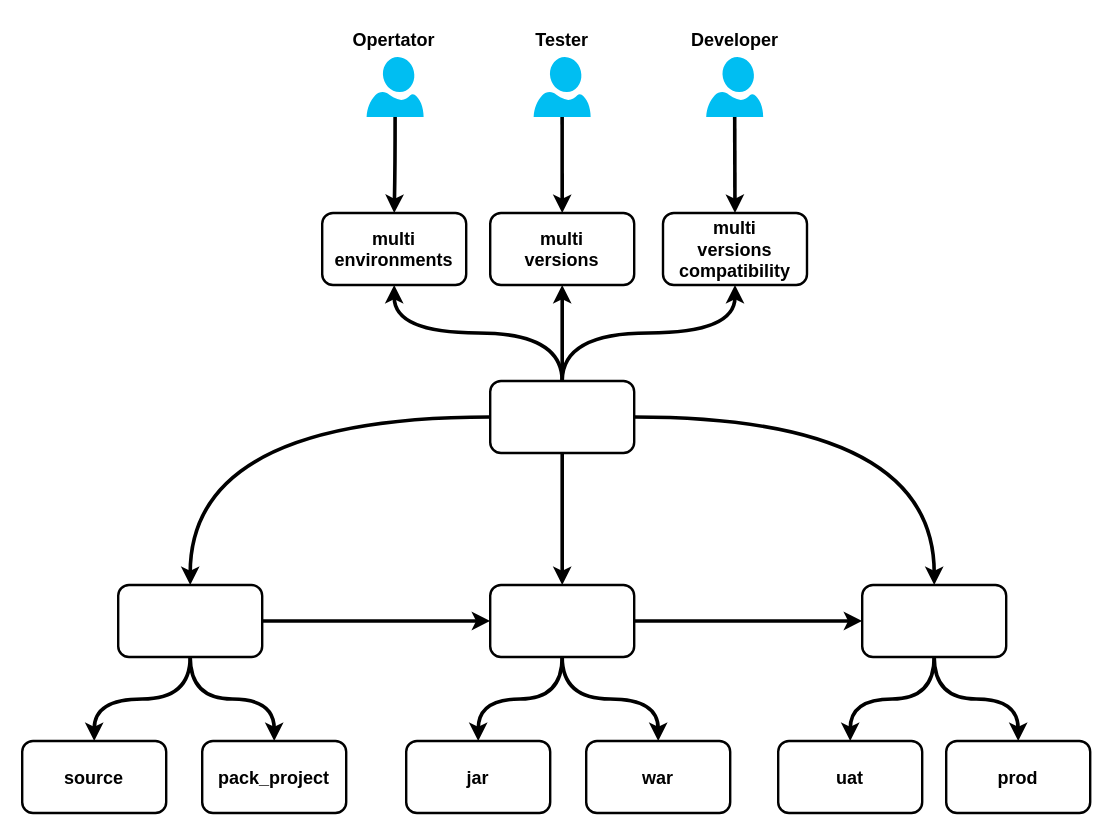
This 1111x834 diagram has some shape labels left out. The centre of each missing label's shape, as x and y in pixels:
"develop" goes at pixel 189 620.
"management" goes at pixel 561 416.
"pack" goes at pixel 561 620.
"publish" goes at pixel 933 620.
